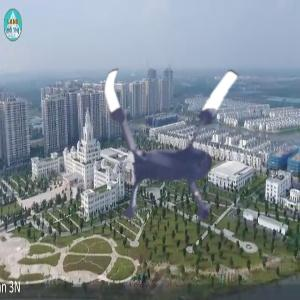drone: (75, 45, 280, 250)
